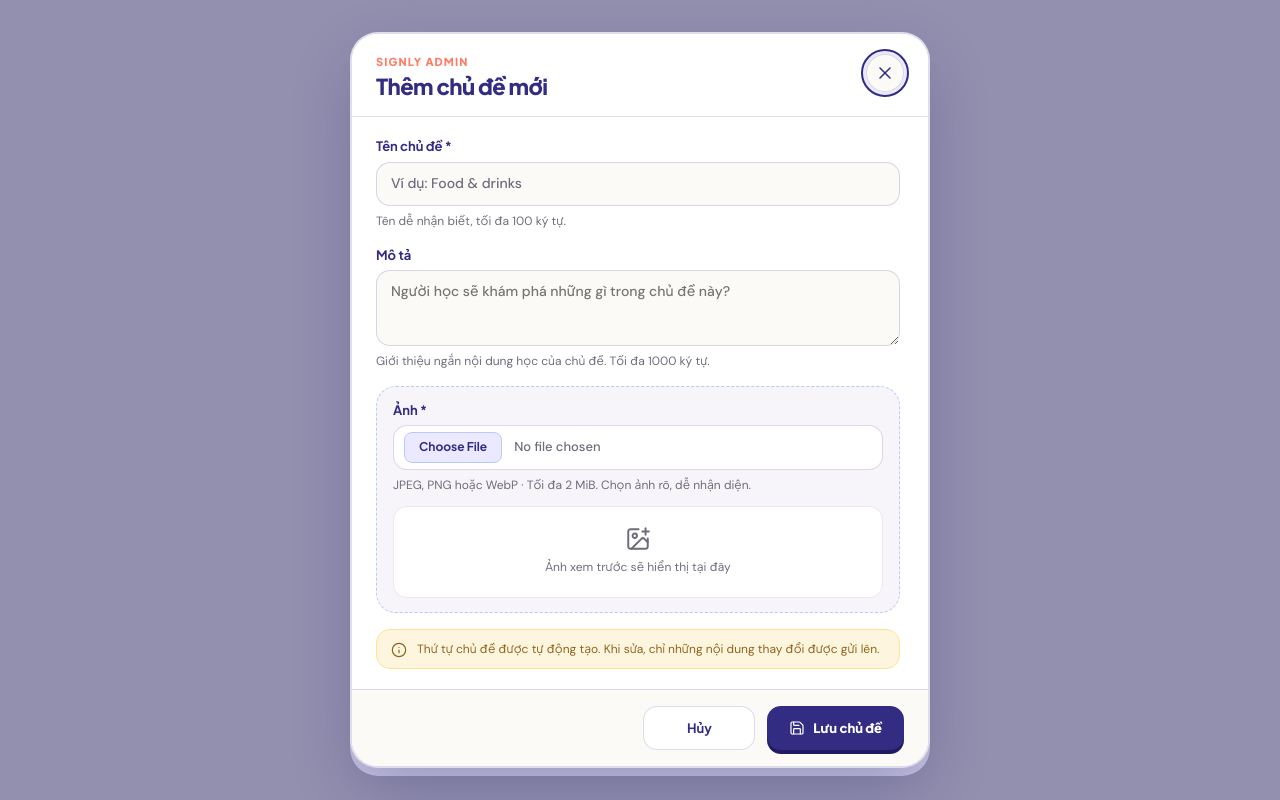
Scenario: links the Topic name and image fields to actionable inline errors
This screenshot has width=1280, height=800.
Click the button "Lưu chủ đề": (836, 728) 767,706 -> 904,750
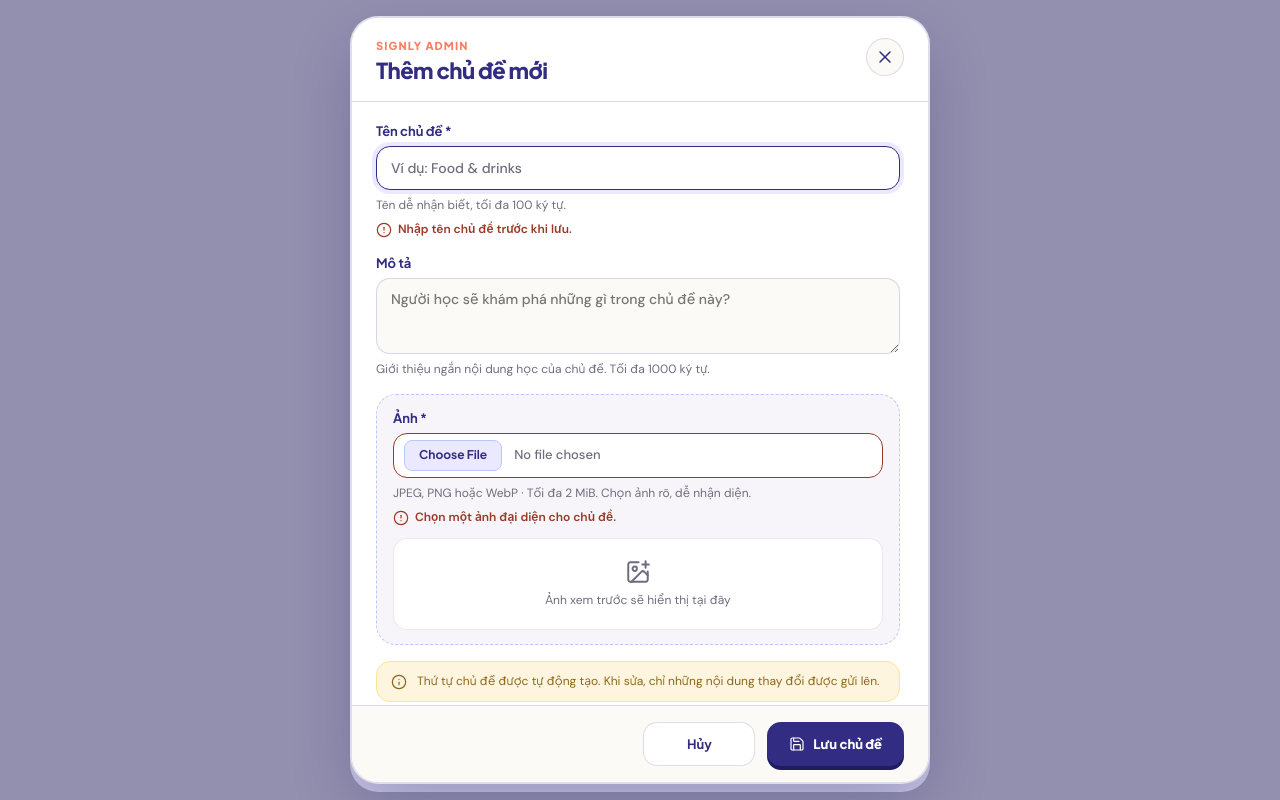
Check: the field labelled "Tên chủ đề *" is marked as invalid, box 376,146 -> 900,190
Check: the file field labelled "Ảnh *" is marked as invalid, box 393,434 -> 883,478
